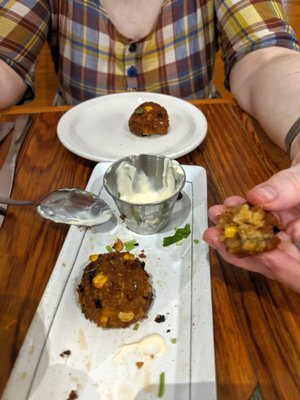pizza: (103, 154, 187, 236)
sandwich: (7, 115, 34, 203)
